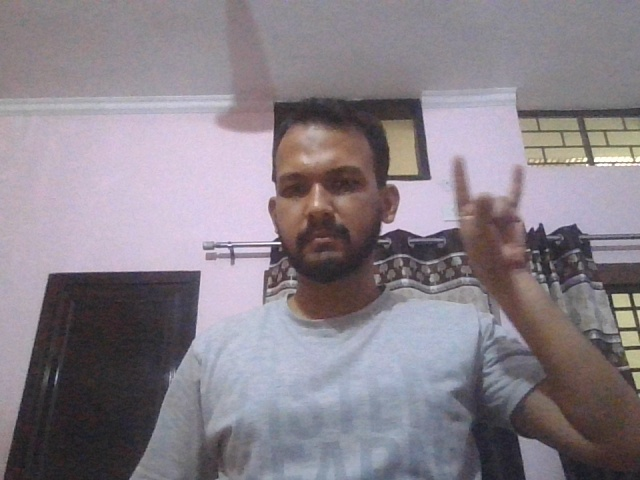iloveyou: (450, 156, 532, 273)
